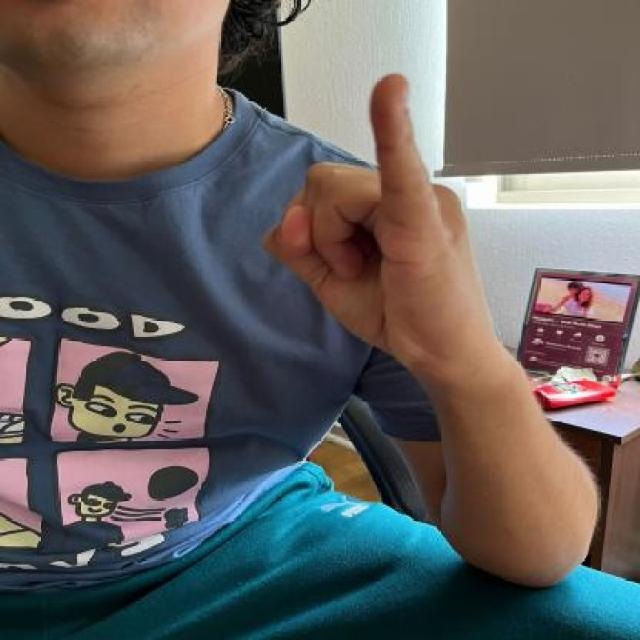I: (261, 70, 488, 372)
